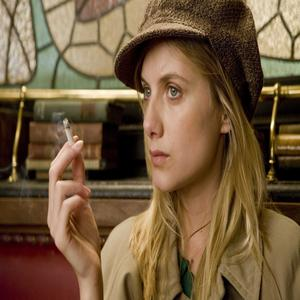cigarette: (63, 116, 81, 156)
